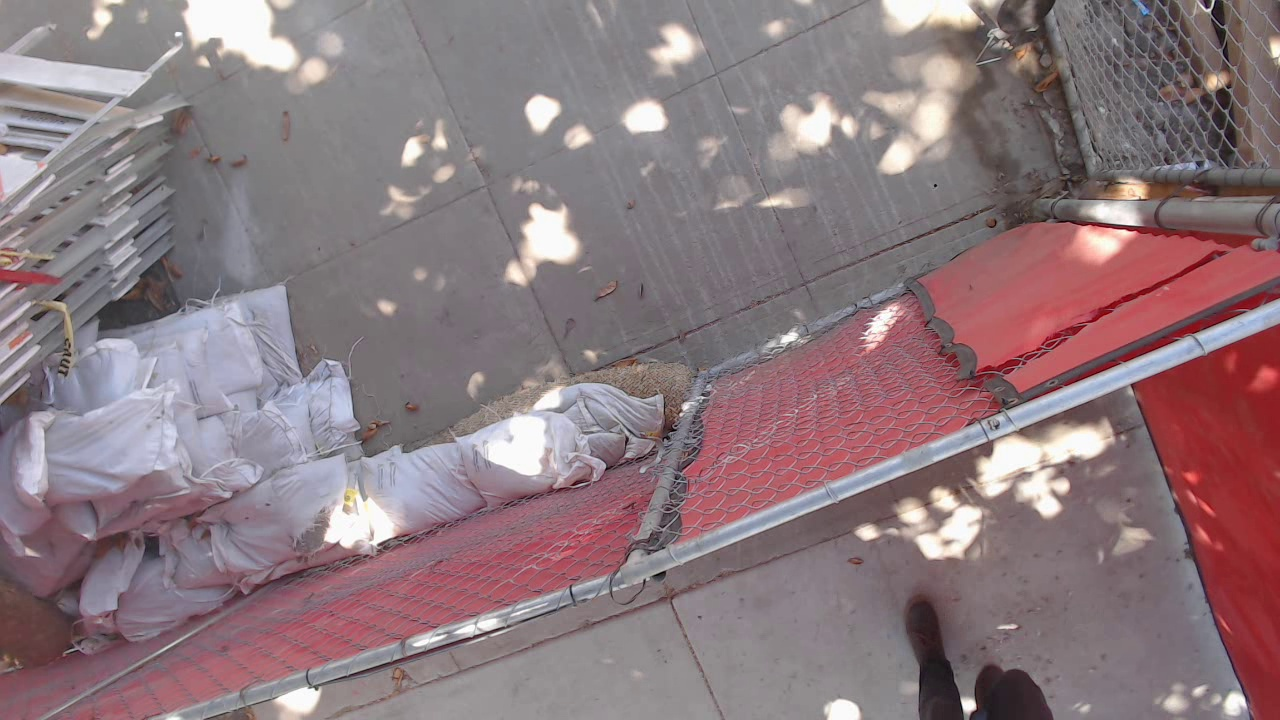person: (900, 593, 1047, 720)
